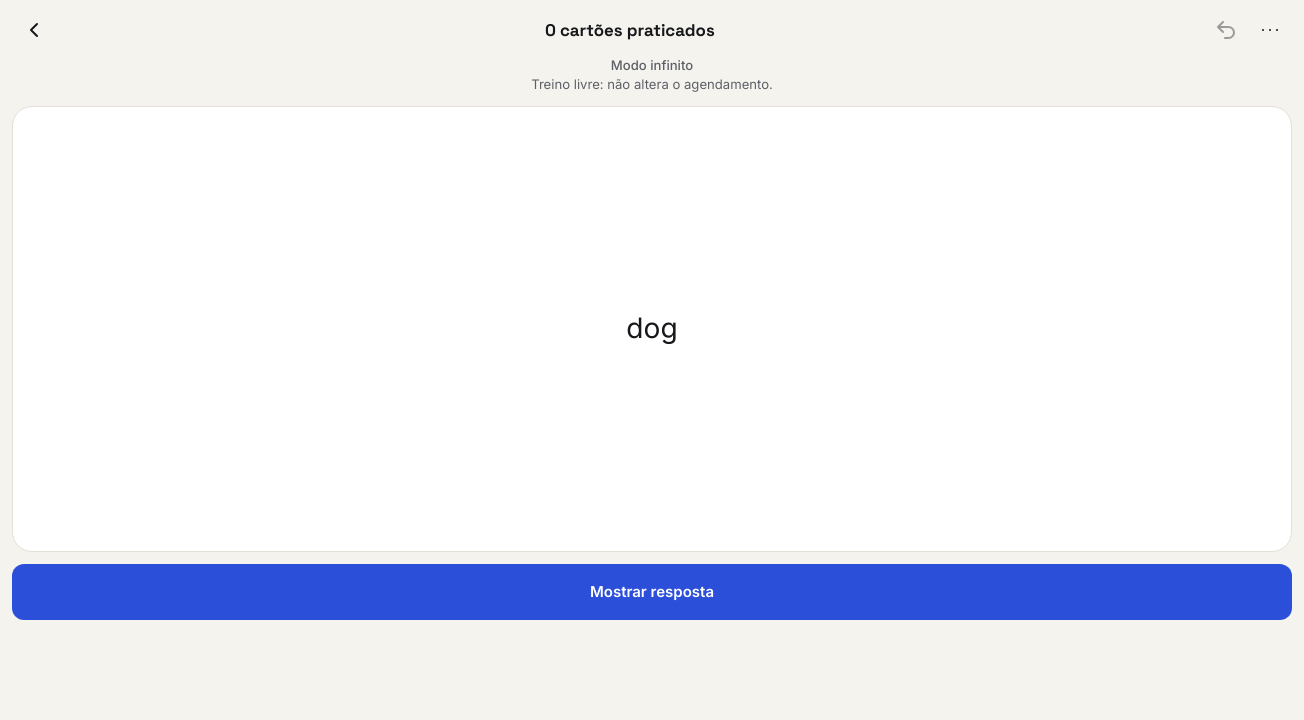
Test: StudyScreen › infinite mode › counts the cards practised instead of today's counts
Expected: the text "0 cartões praticados" is shown, [545,17,715,43]
What coordinates should you click on to do the following:
click the button "Mostrar resposta"
I would click on:
 (652, 592)
Its box is [12,564,1292,620].
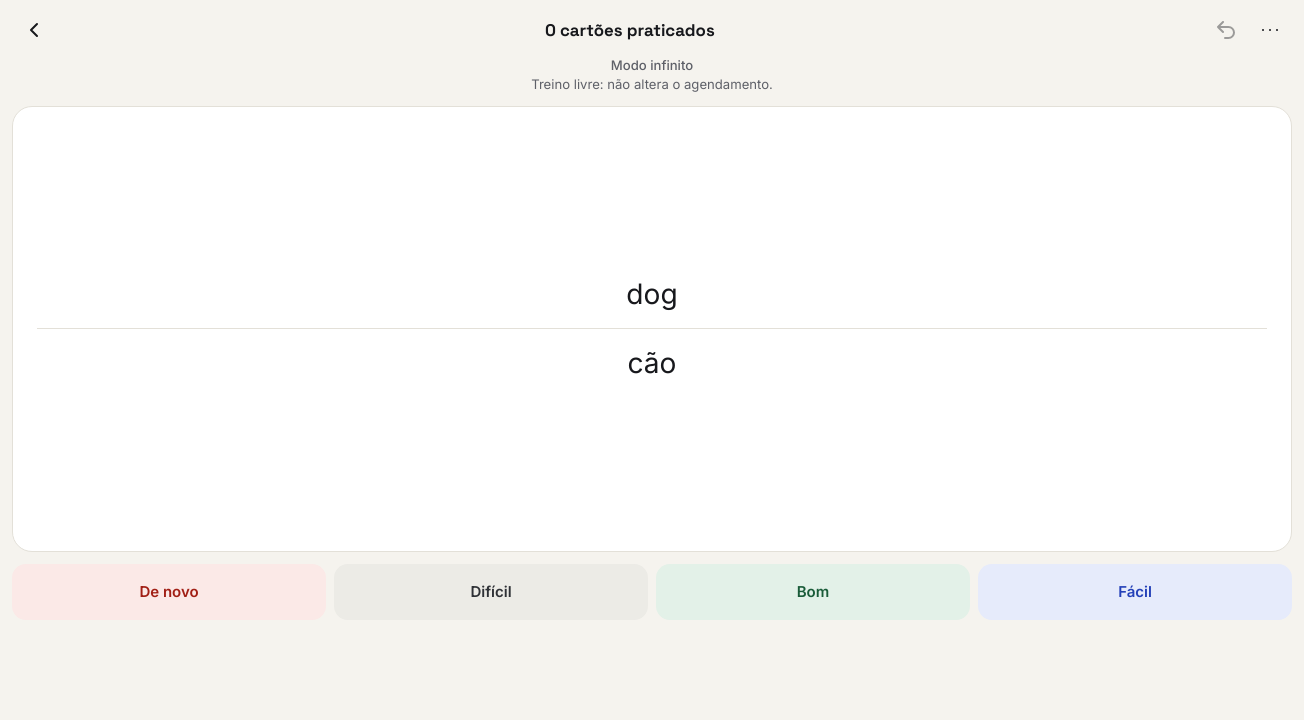
What coordinates should you click on to do the following:
click the button "De novo"
I would click on:
 (169, 592)
Its box is [12,564,326,620].
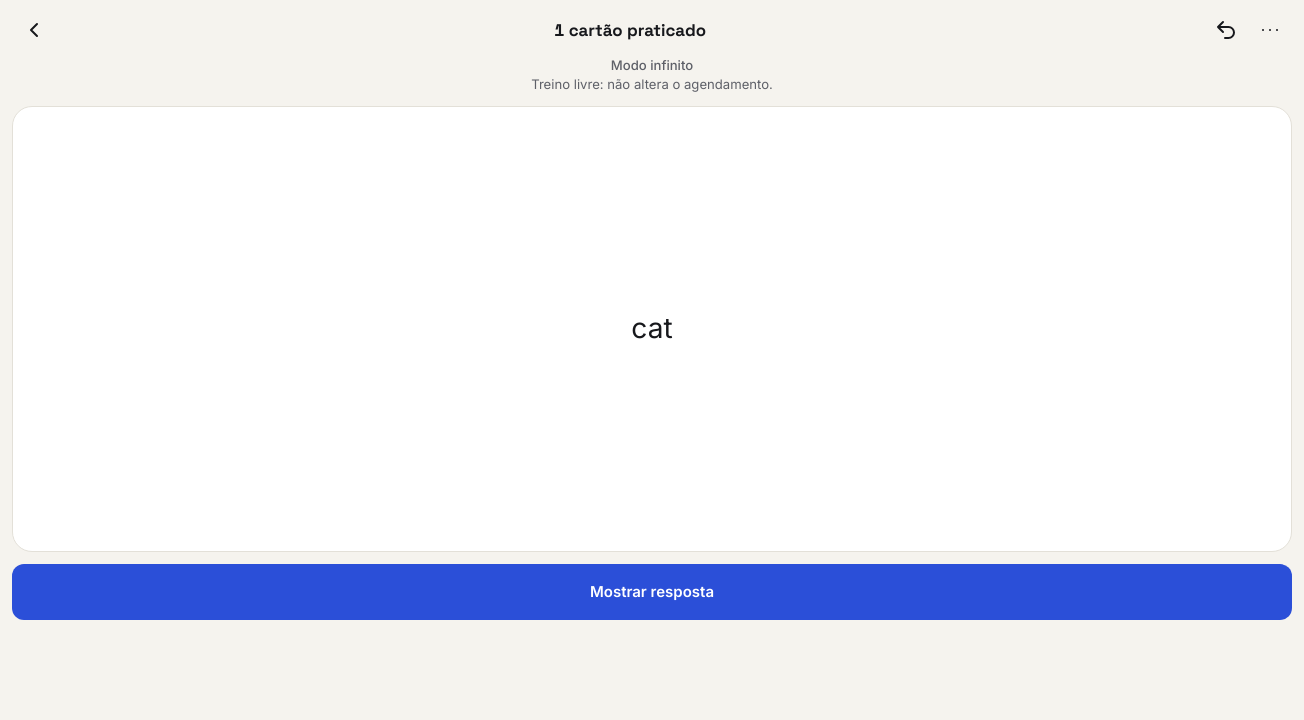
Now the element with test id "card-content" no longer shows "dog"
Now the text "1 cartão praticado" is shown, box [554,17,706,43]
